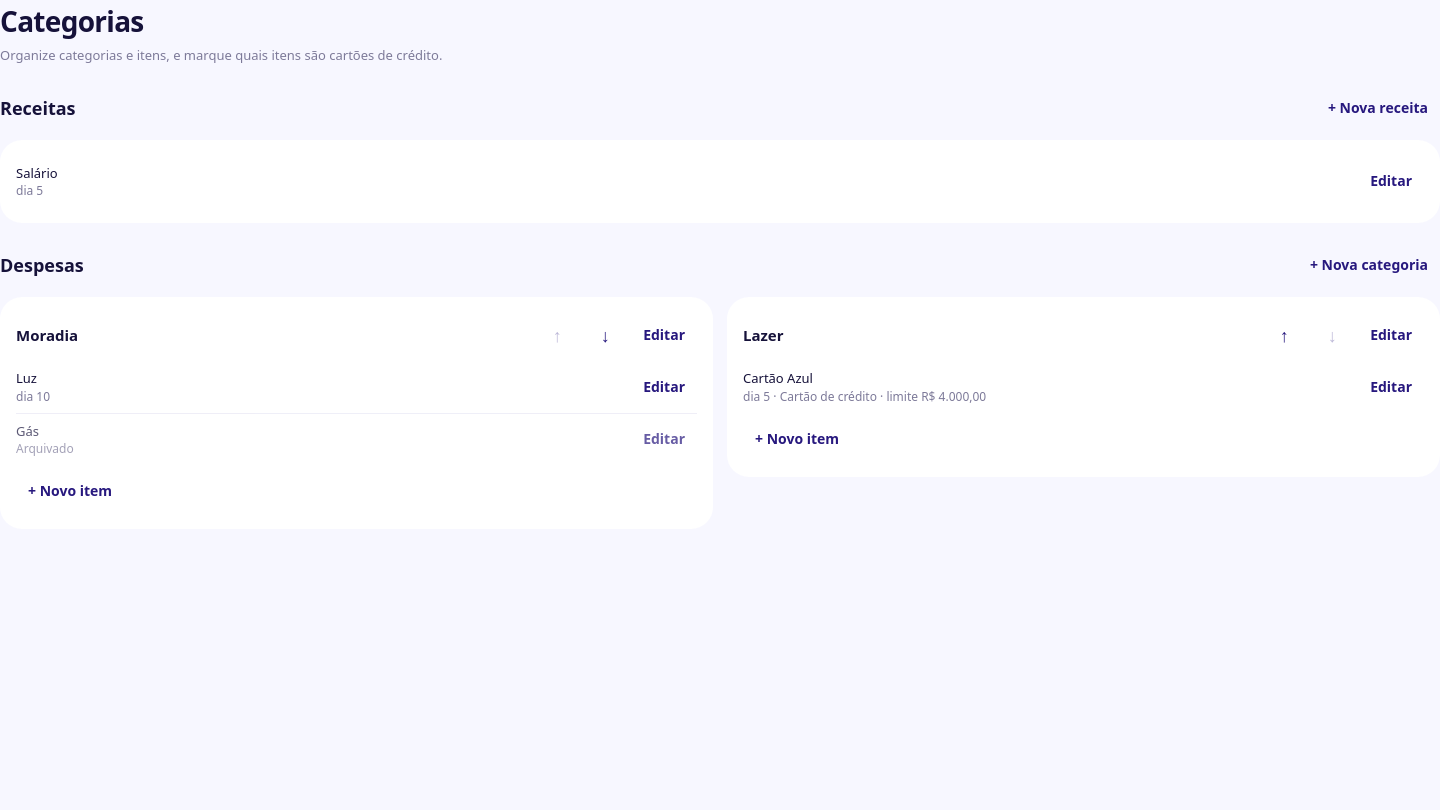
Scenario: CategoriasPage › apagar_categoria_com_lancamentos_mostra_mensagem_409
The image size is (1440, 810).
What coordinates should you click on to do the following:
click the button with aria-label "Editar categoria Lazer"
I would click on:
 (1391, 335)
Its box is x1=1358 y1=313 x2=1424 y2=357.
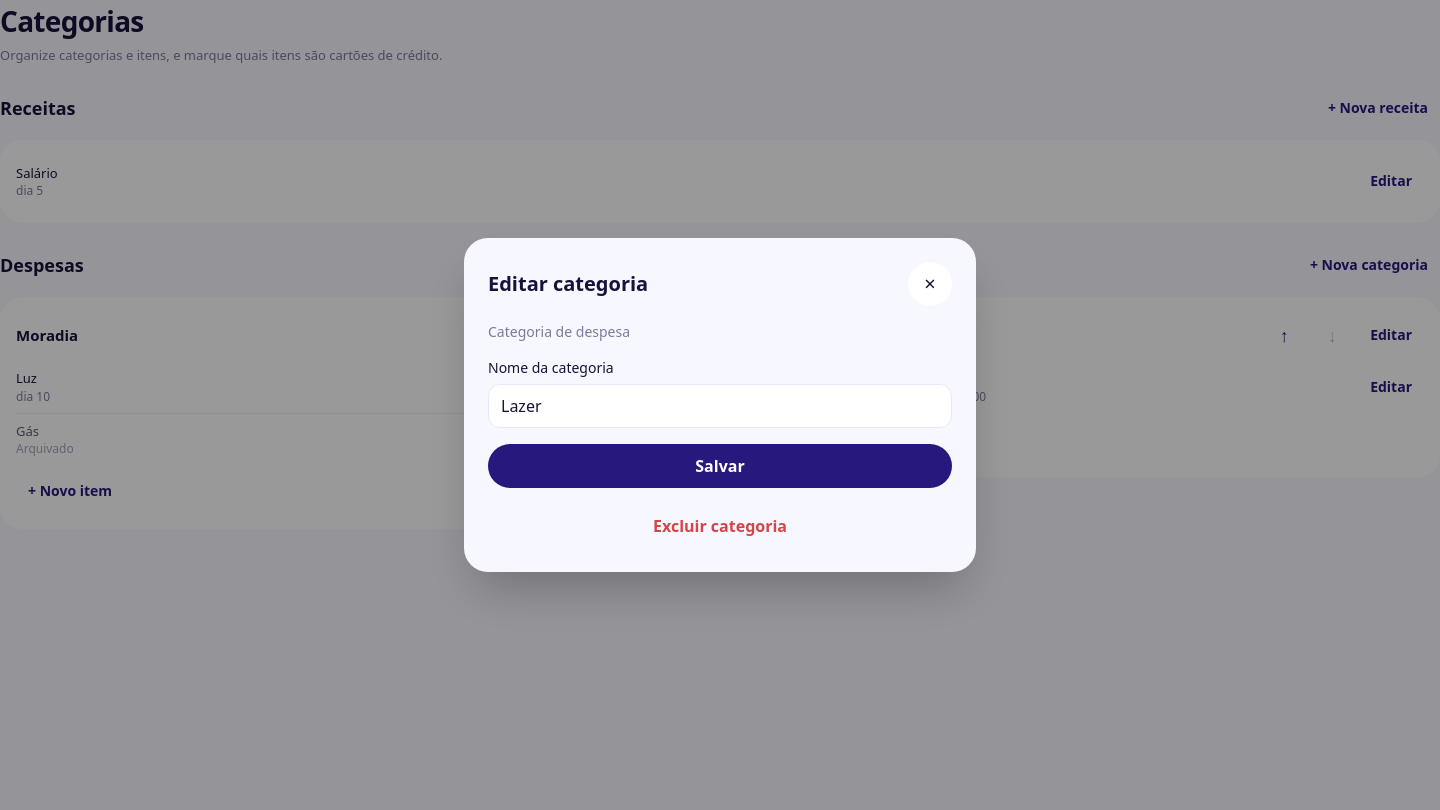
What coordinates should you click on to do the following:
click the button "Excluir categoria"
I would click on:
 (720, 526)
Its box is x1=488 y1=504 x2=952 y2=548.
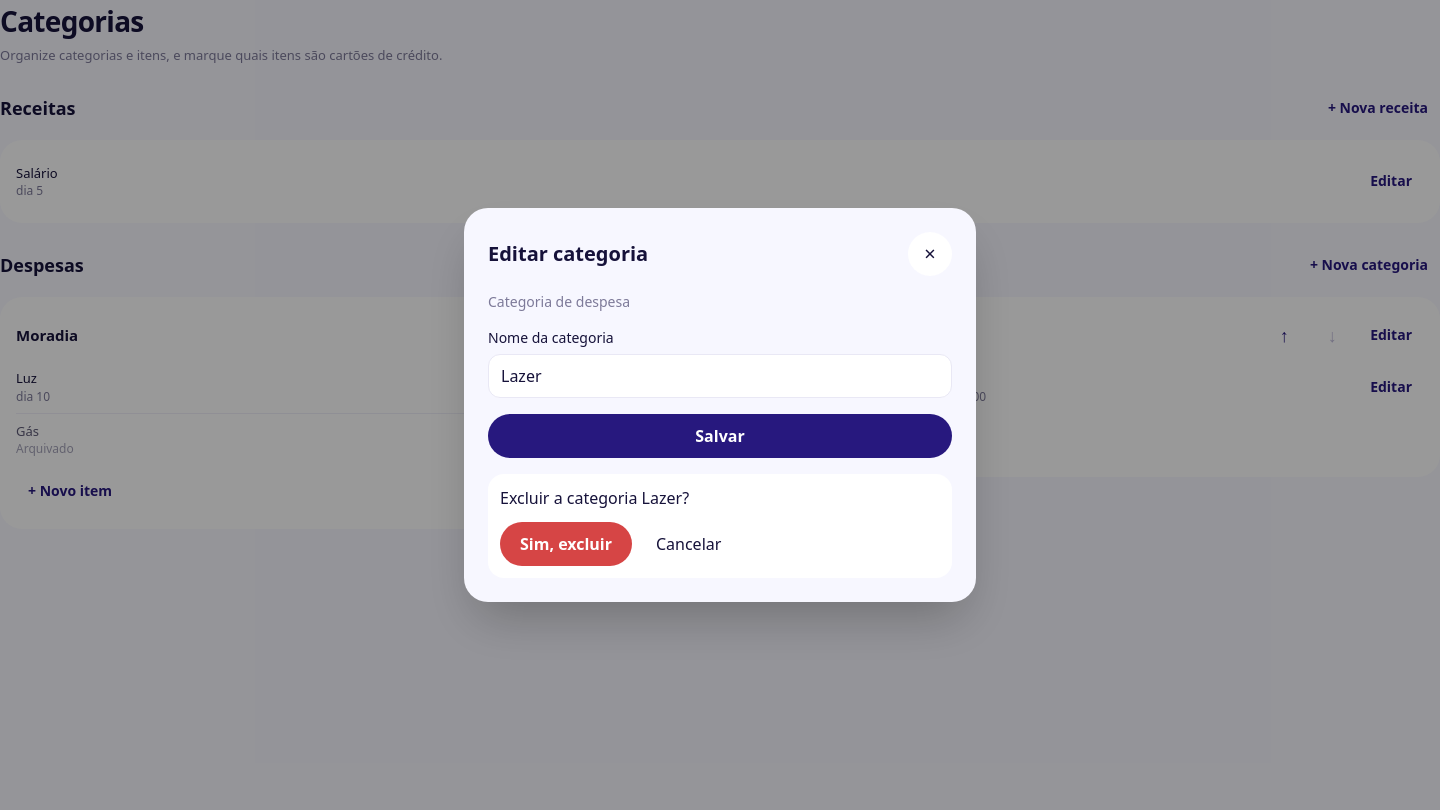
What coordinates should you click on to do the following:
click the button "Sim, excluir"
I would click on:
 (566, 544)
Its box is x1=500 y1=522 x2=632 y2=566.
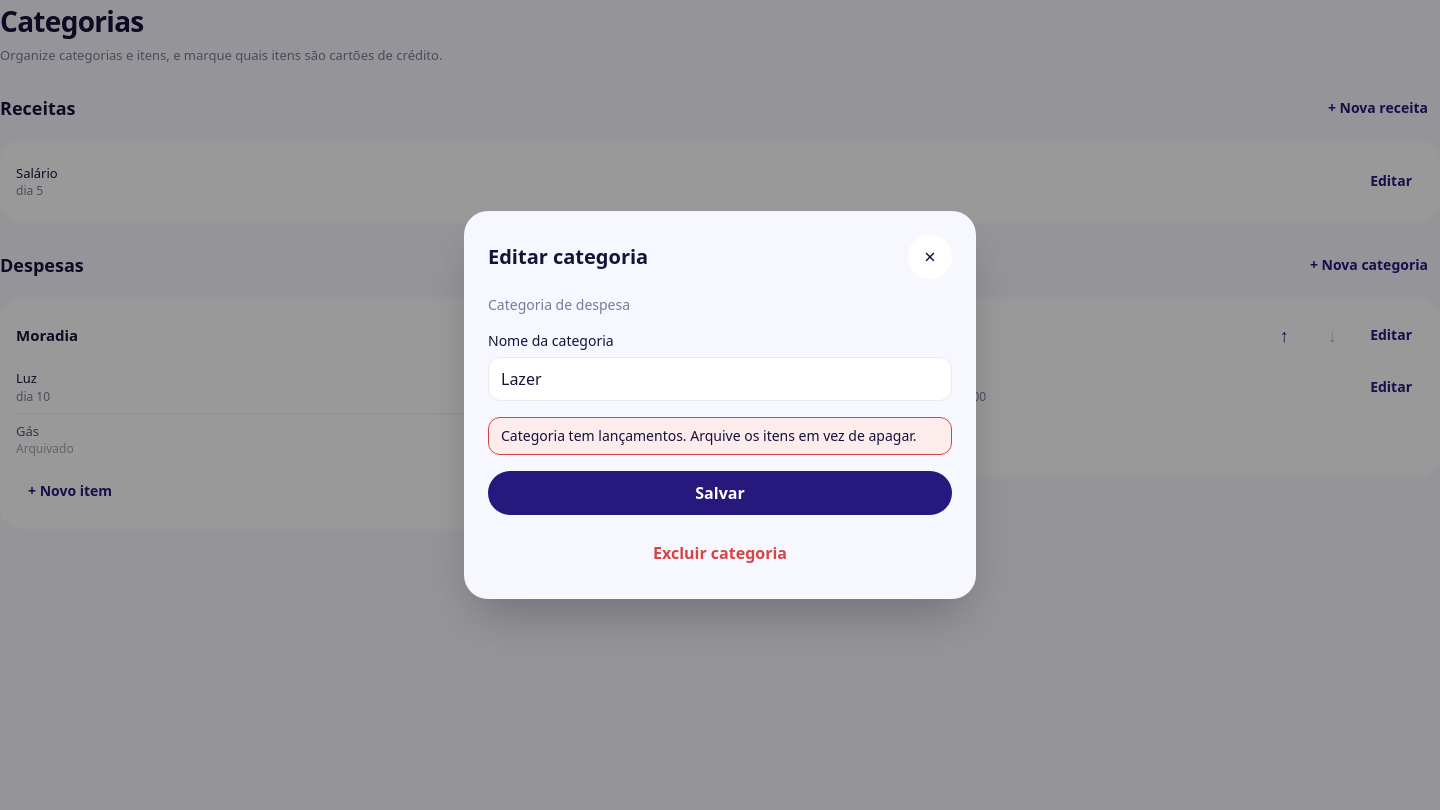
expect the element "Lazer" is shown: met, box x1=727 y1=297 x2=1439 y2=476
expect the dialog is shown: met, box x1=464 y1=211 x2=976 y2=599
expect the message reads "Categoria tem lançamentos. Arquive os itens em vez de apagar.": met, box x1=501 y1=426 x2=916 y2=445
